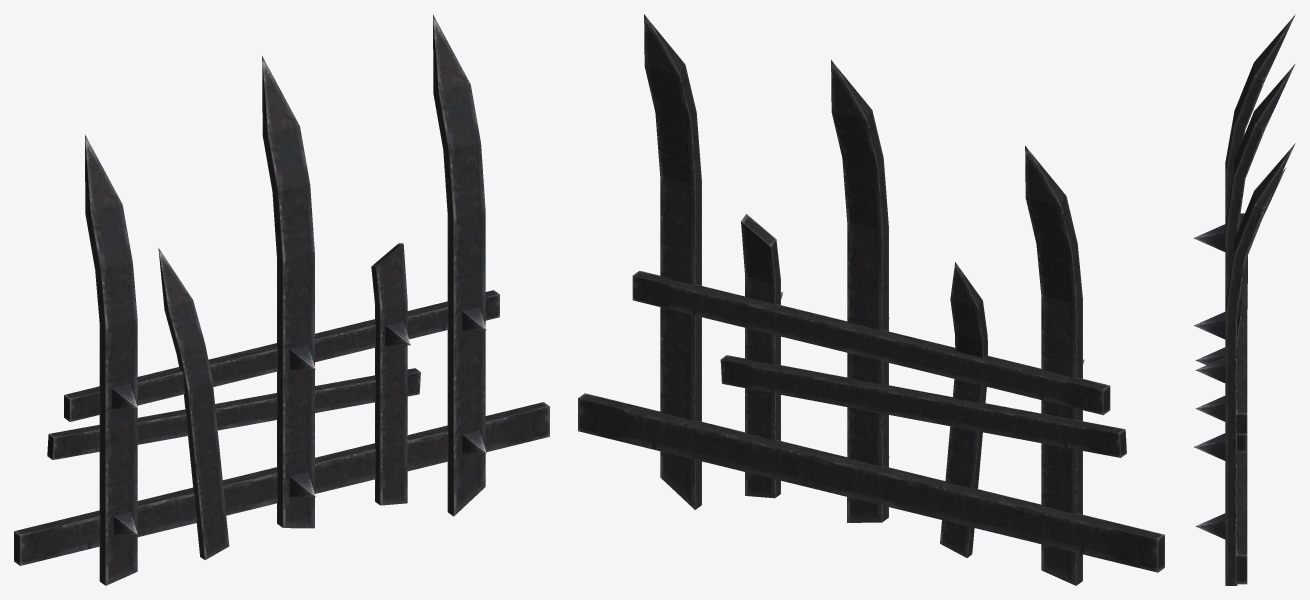
The model's file is 10504_IronRail03.FBX.
3 renders of one model, left to right at view 1: azimuth 30°, elevation 25°; view 2: azimuth 150°, elevation 25°; view 3: azimuth 270°, elevation 25°, orthographic. The views are drawn at different scales.
Parts seen in each view (by area): view 1: Object003; view 2: Object003; view 3: Object003.
Part boxes in pixels (bbox=[...]): Object003: bbox=[14, 14, 549, 585]; Object003: bbox=[578, 14, 1164, 585]; Object003: bbox=[1193, 14, 1295, 585].
Bounding box in the file's own units: 536 × 456 × 94.1.
